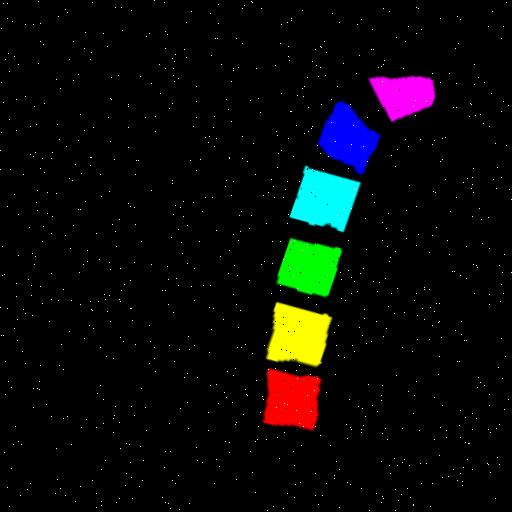L1: (261, 373, 321, 435)
L2: (266, 306, 330, 371)
L3: (279, 242, 341, 302)
L4: (289, 172, 360, 236)
L5: (317, 107, 380, 180)
S1: (368, 85, 434, 128)
